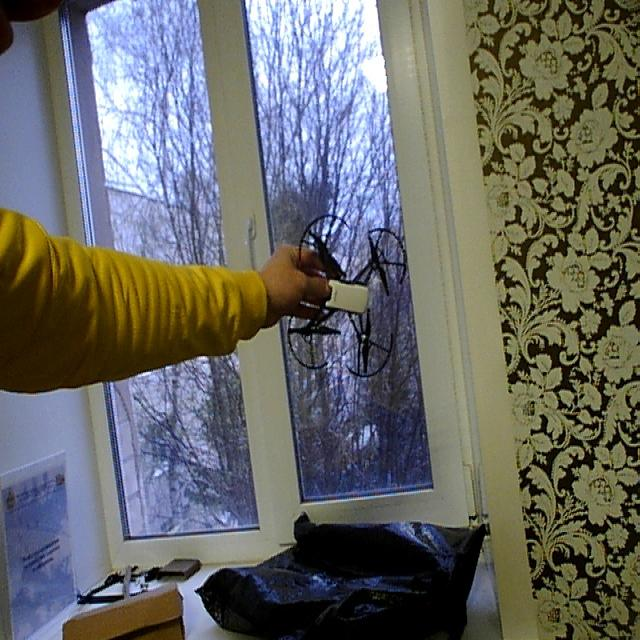drone: (282, 199, 408, 383)
